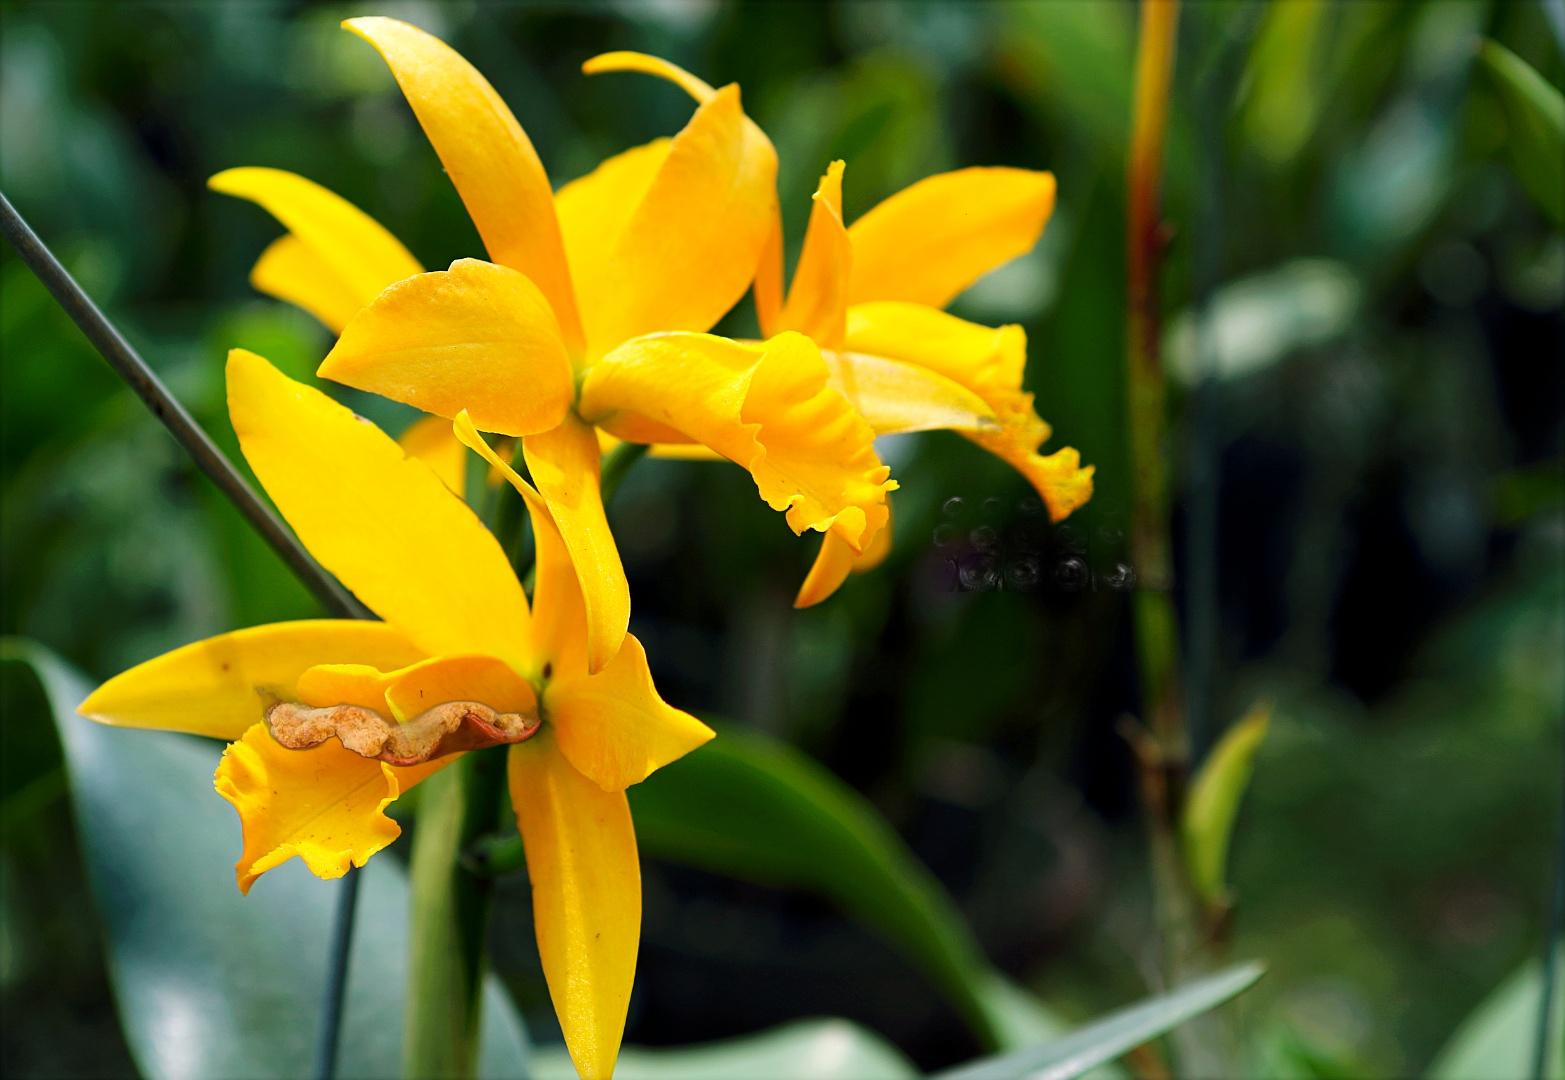battery: (934, 397, 1192, 592)
biological: (252, 658, 568, 783)
